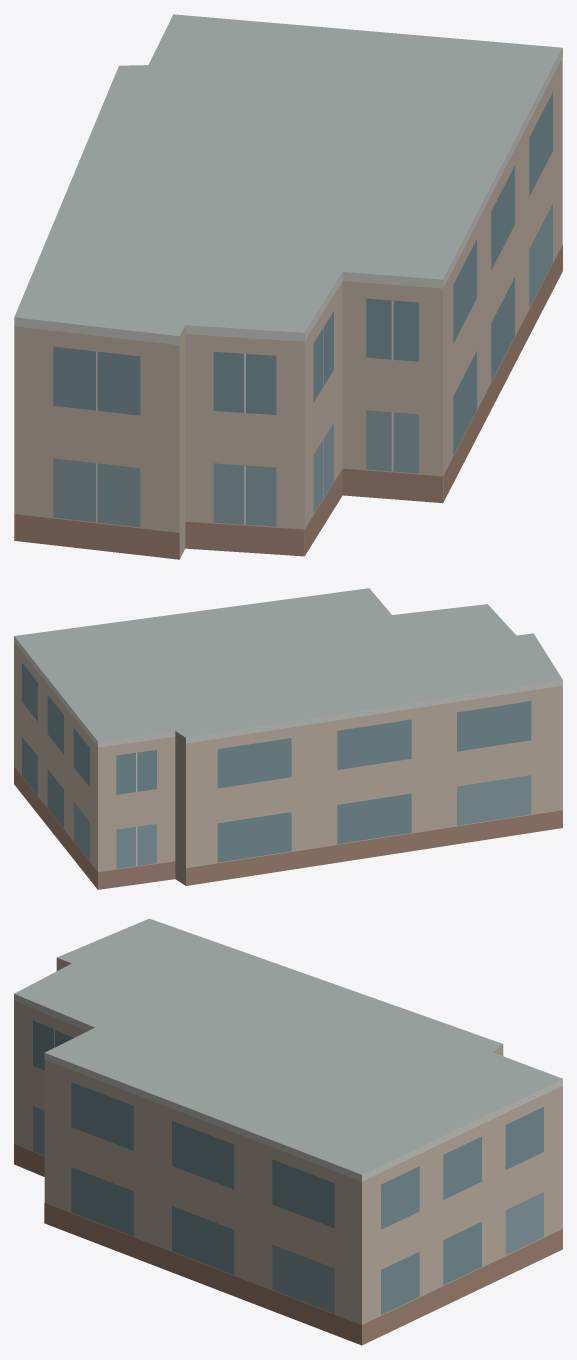
File: survey-upis-32889474.glb
3 views of the same model, one above another, from view 1: azimuth 30°, elevation 25°; view 2: azimuth 150°, elevation 25°; view 3: azimuth 270°, elevation 25° (orthographic). The views are drawn at different scales.
Parts seen in each view (by area): view 1: survey-upis-32889474.tmp; view 2: survey-upis-32889474.tmp; view 3: survey-upis-32889474.tmp.
Part boxes in pixels (x1,y1,x2,y2): survey-upis-32889474.tmp: (14,14,562,559); survey-upis-32889474.tmp: (14,588,562,889); survey-upis-32889474.tmp: (14,918,562,1345).
Size of the model in its own units: 19.66 by 6.1 by 17.79.
